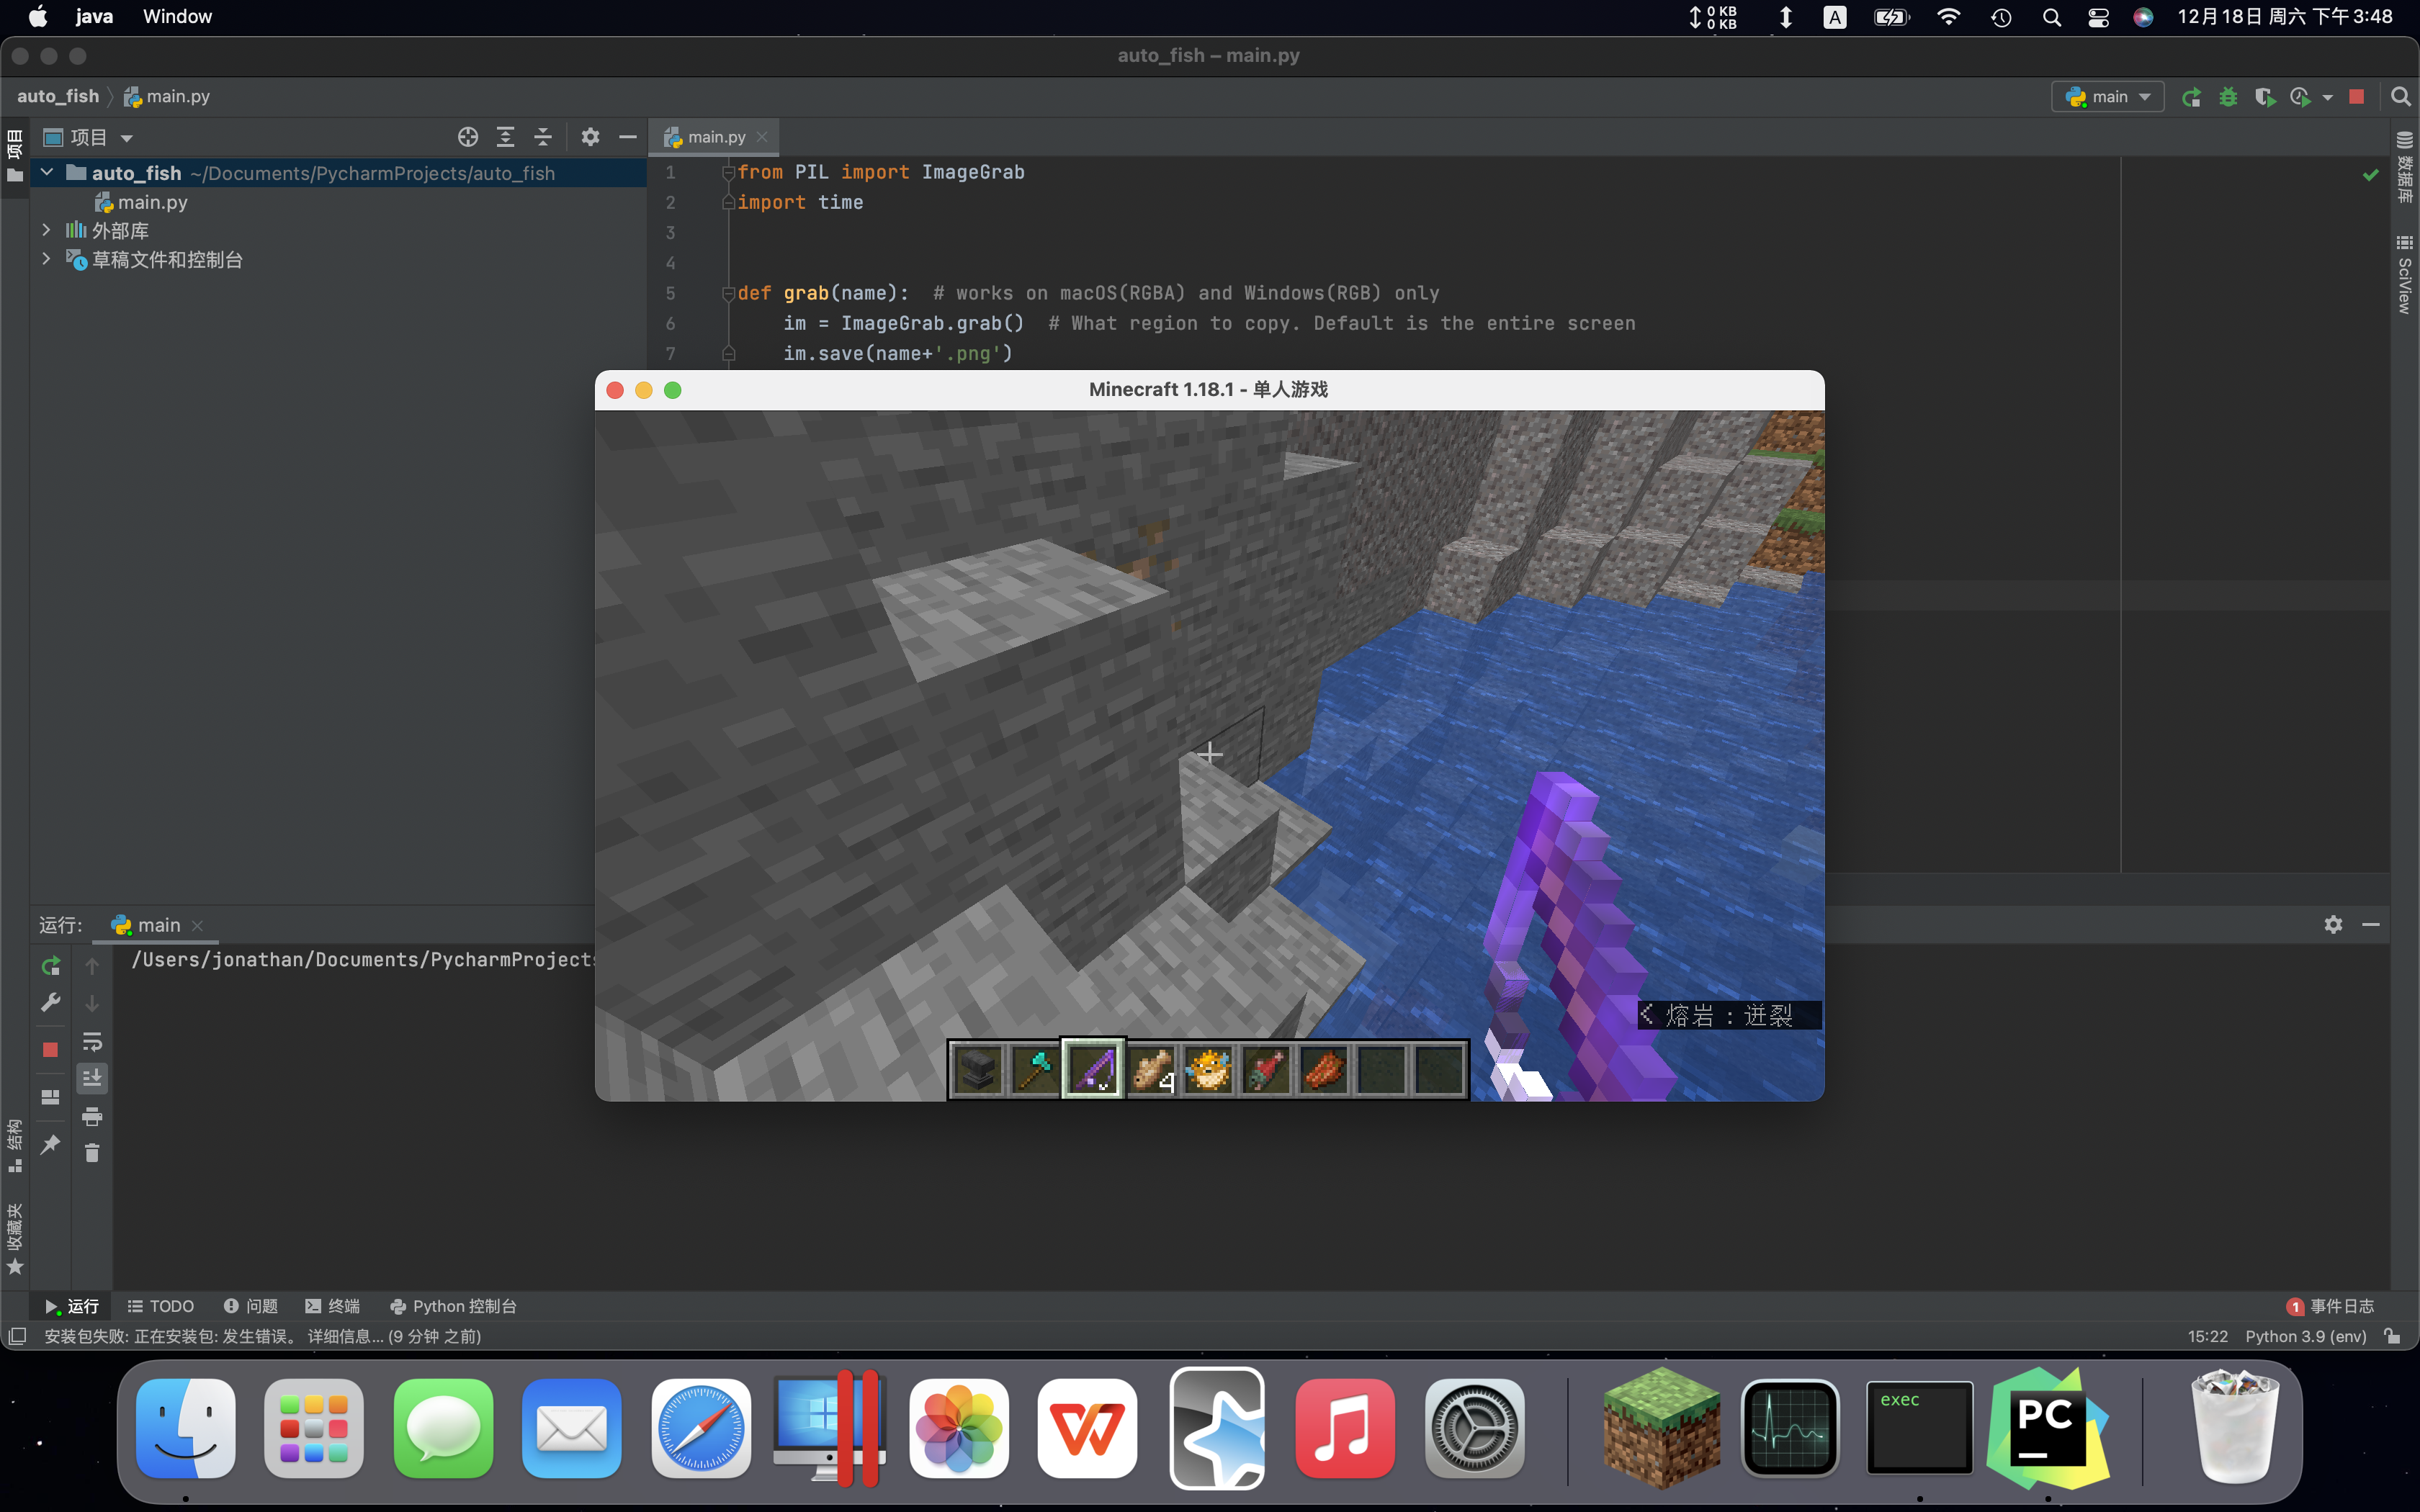inf: (1638, 1002, 1819, 1029)
